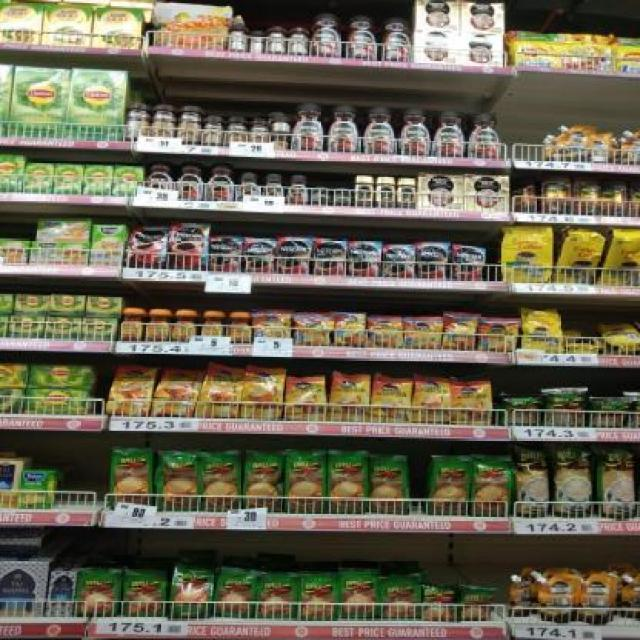Coffee: (109, 365, 150, 412), (243, 368, 283, 415), (203, 368, 242, 416), (284, 376, 325, 419), (451, 381, 492, 424), (170, 224, 208, 270), (158, 370, 197, 414), (330, 373, 368, 418), (361, 107, 397, 154), (290, 102, 324, 151), (414, 378, 451, 422), (375, 378, 411, 422), (432, 111, 466, 157), (326, 105, 359, 152), (398, 109, 431, 155), (132, 227, 169, 268), (468, 112, 501, 156), (311, 13, 344, 56), (346, 15, 379, 58), (383, 15, 412, 60), (254, 310, 292, 344), (205, 162, 236, 201), (295, 314, 332, 346), (277, 237, 310, 272), (451, 245, 484, 280), (481, 318, 517, 350), (334, 312, 367, 346), (349, 241, 380, 277), (447, 314, 477, 351), (370, 317, 403, 350), (407, 318, 442, 349), (177, 161, 204, 200), (417, 242, 446, 278), (315, 240, 345, 274), (147, 160, 176, 194), (383, 245, 414, 276), (211, 238, 240, 271), (245, 240, 274, 271), (121, 308, 146, 340), (173, 310, 198, 342), (147, 309, 171, 342), (200, 311, 224, 344), (227, 311, 251, 344), (263, 173, 286, 203), (286, 174, 308, 204), (353, 176, 374, 207), (376, 177, 396, 206), (238, 173, 260, 199), (397, 178, 416, 206), (334, 185, 352, 205), (314, 186, 330, 204)
